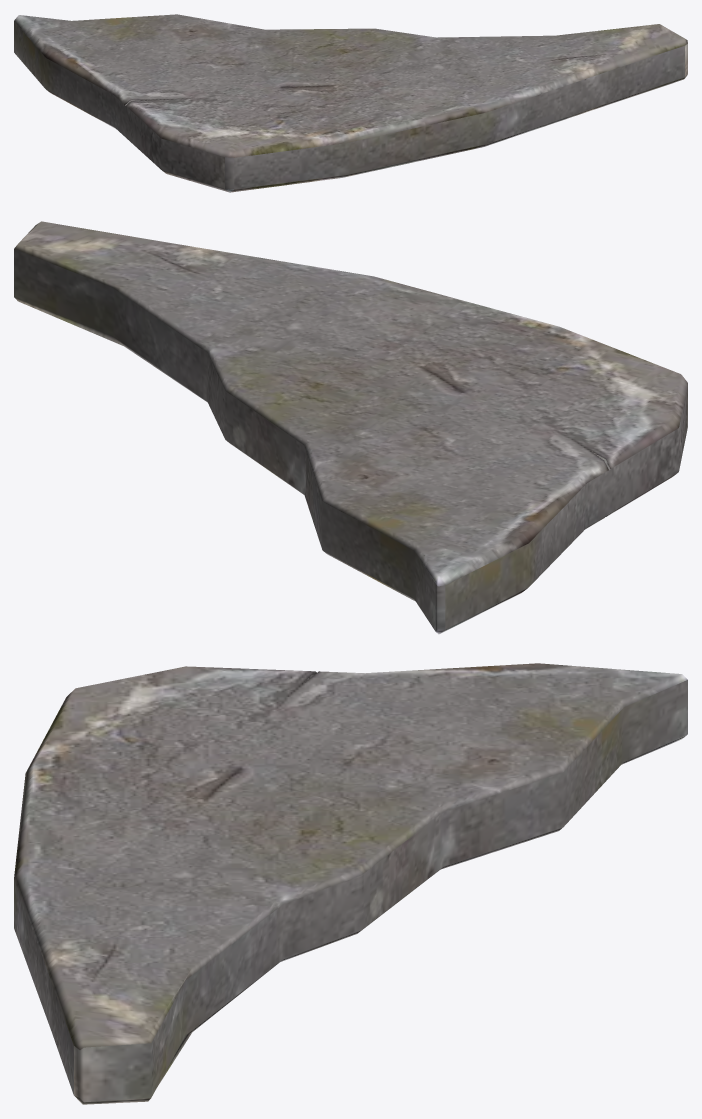
The picture shows the model from 3 angles, top to bottom: view 1: azimuth 30°, elevation 25°; view 2: azimuth 150°, elevation 25°; view 3: azimuth 270°, elevation 25°; orthographic projection. The views are drawn at different scales.
Parts seen in each view (by area): view 1: SM_DR_Flagstone_02_V3_LOD0; view 2: SM_DR_Flagstone_02_V3_LOD0; view 3: SM_DR_Flagstone_02_V3_LOD0.
Boxes of the visible parts, x1,y1,x2,y2 form: SM_DR_Flagstone_02_V3_LOD0: (14,14,687,192); SM_DR_Flagstone_02_V3_LOD0: (14,221,687,634); SM_DR_Flagstone_02_V3_LOD0: (14,663,687,1104).
Size of the model in its own units: 1.26 by 0.1 by 0.9372.
1 material, 1 textured.
